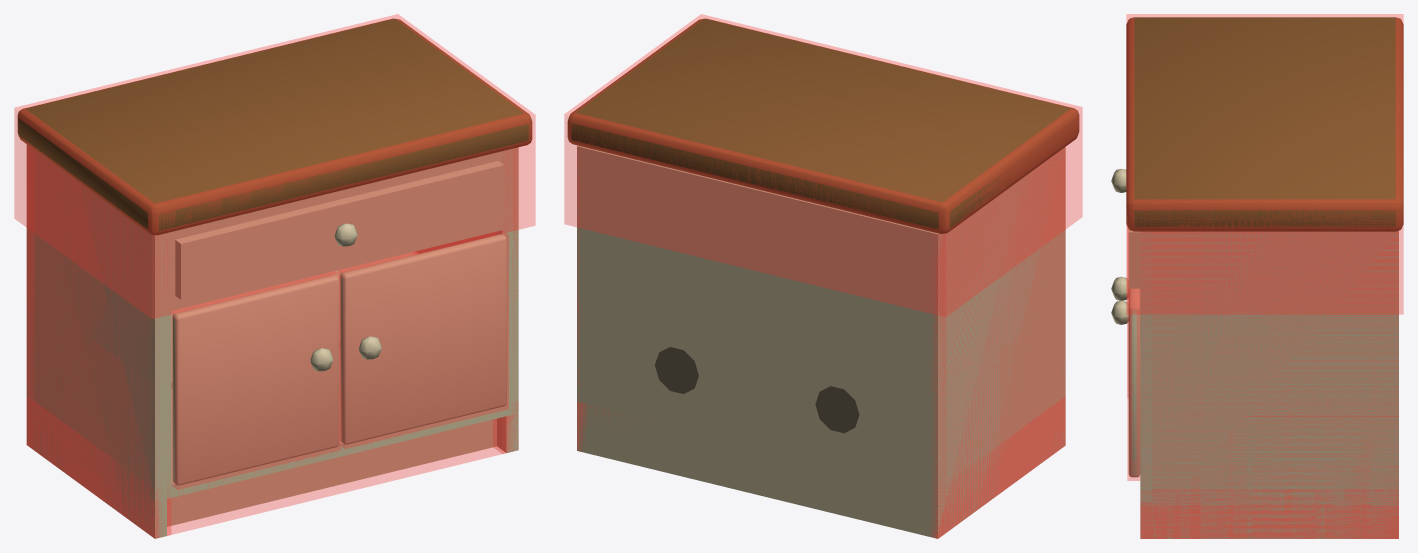
Rendered from KitchenCabinetK02.glb.
3 renders of one model, left to right at view 1: azimuth 30°, elevation 25°; view 2: azimuth 150°, elevation 25°; view 3: azimuth 270°, elevation 25°, orthographic.
Parts seen in each view (by area): view 1: Body_Cream, Body_Countertop, Col_Top, Col_SideLeft, Col_DoorRight, Col_DoorLeft, DoorLeft_Cream, DoorRight_Cream, Col_Base, Col_Back, Col_SideRight; view 2: Body_Cream, Body_Countertop, Col_Top, Col_SideLeft, Col_Base, Body_Inside; view 3: Body_Cream, Body_Countertop, Col_SideRight, Col_Top, Col_Base, DoorRight_Cream, Col_DoorRight, DoorLeft_Cream.
Boxes of the visible parts, x1=… form: Body_Cream: x1=26, y1=145, x2=518, y2=538; Body_Countertop: x1=17, y1=18, x2=532, y2=235; Col_Top: x1=14, y1=14, x2=535, y2=318; Col_SideLeft: x1=27, y1=145, x2=170, y2=538; Col_DoorRight: x1=338, y1=230, x2=508, y2=448; Col_DoorLeft: x1=171, y1=271, x2=340, y2=489; DoorLeft_Cream: x1=172, y1=275, x2=339, y2=485; DoorRight_Cream: x1=340, y1=234, x2=506, y2=444; Col_Base: x1=27, y1=396, x2=518, y2=537; Col_Back: x1=27, y1=229, x2=34, y2=396; Col_SideRight: x1=493, y1=148, x2=518, y2=453; Body_Cream: x1=577, y1=145, x2=1065, y2=538; Body_Countertop: x1=567, y1=18, x2=1079, y2=233; Col_Top: x1=564, y1=14, x2=1082, y2=316; Col_SideLeft: x1=932, y1=148, x2=1065, y2=538; Col_Base: x1=577, y1=397, x2=1065, y2=538; Body_Inside: x1=655, y1=347, x2=859, y2=433; Body_Cream: x1=1111, y1=168, x2=1398, y2=538; Body_Countertop: x1=1126, y1=17, x2=1403, y2=231; Col_SideRight: x1=1140, y1=231, x2=1398, y2=538; Col_Top: x1=1126, y1=14, x2=1403, y2=314; Col_Base: x1=1140, y1=489, x2=1398, y2=538; DoorRight_Cream: x1=1111, y1=289, x2=1140, y2=477; Col_DoorRight: x1=1127, y1=228, x2=1139, y2=480; DoorLeft_Cream: x1=1111, y1=276, x2=1128, y2=300.
Bounding box in the file's own units: 3.8 × 3.2 × 2.49.
